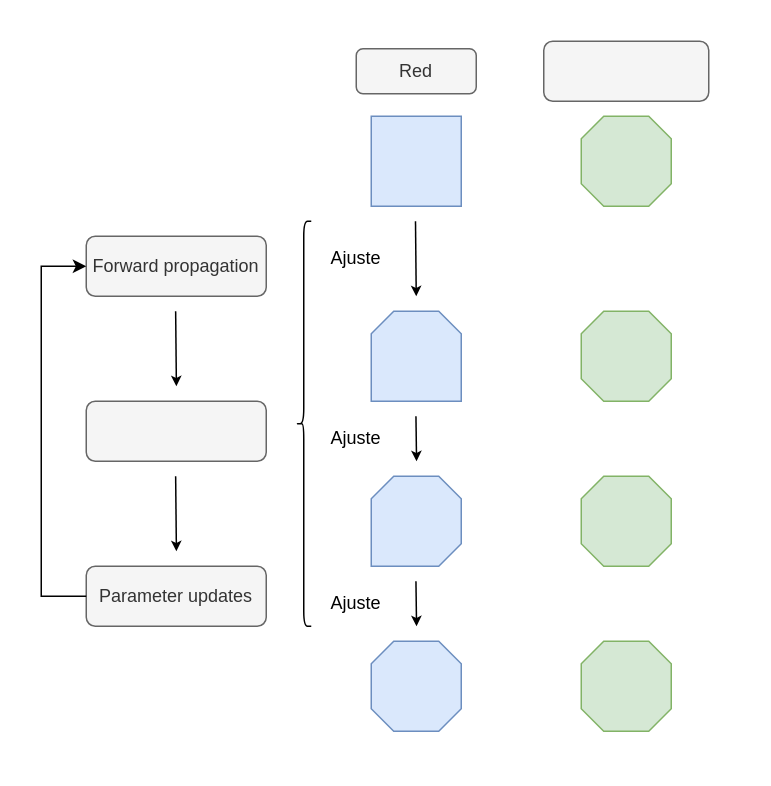
This 771x786 diagram has some shape labels left out. Here are the shapes that lost their labels. From the top down, the centre of each, then its label:
At (x=625, y=70): "Funcionalidad esperada".
At (x=175, y=430): "Backwards propagation".
